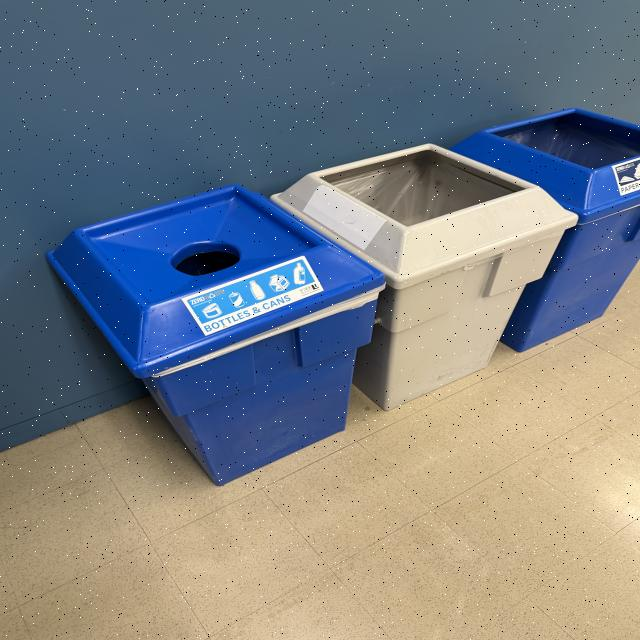Dustbin: (44, 109, 640, 488)
